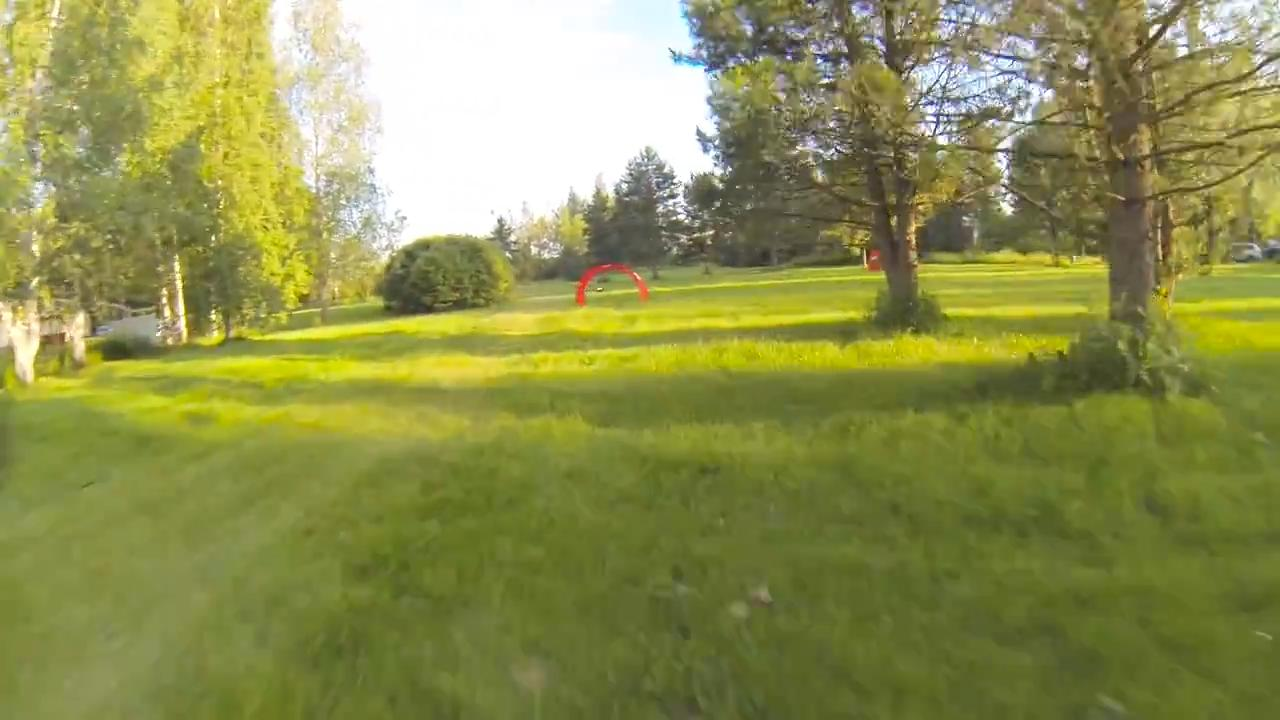gate: (575, 260, 652, 307)
